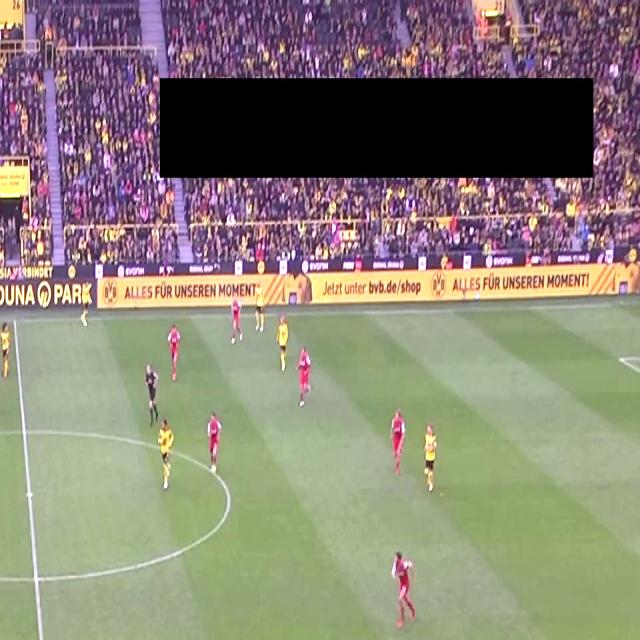referee: (140, 363, 164, 426)
soccer-player: (388, 546, 426, 634), (416, 417, 444, 500), (152, 419, 179, 500), (386, 406, 411, 482), (290, 344, 317, 413), (202, 408, 226, 480), (273, 316, 295, 375), (223, 294, 246, 349), (250, 277, 270, 336), (165, 322, 181, 385), (0, 314, 15, 379), (78, 280, 94, 329), (0, 354, 3, 414)
